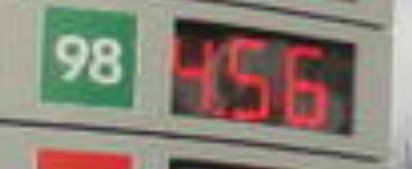digits: (171, 25, 222, 120), (280, 44, 335, 125), (225, 37, 276, 123)
